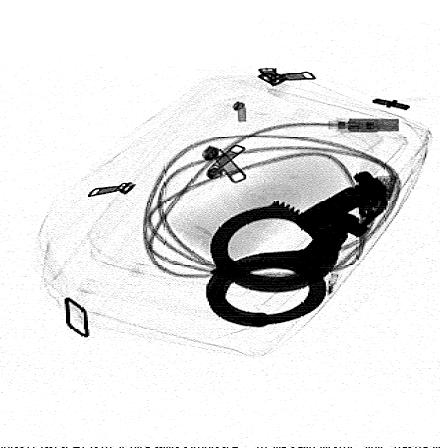HandCuffs: (204, 168, 392, 329)
